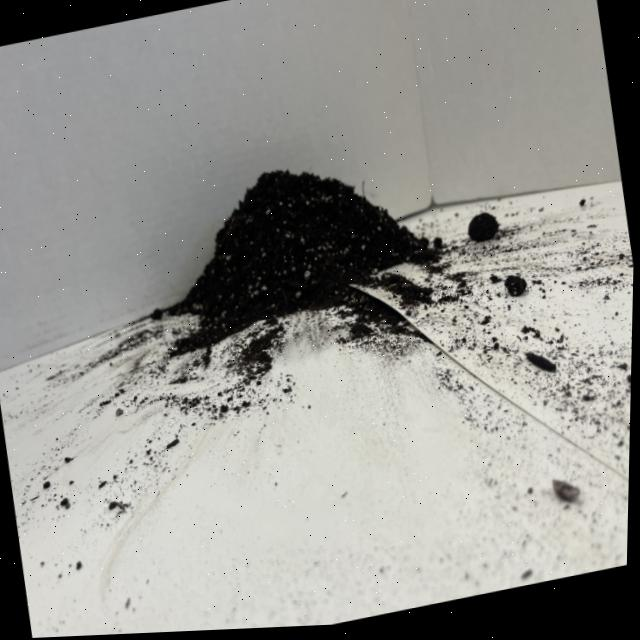soil: (131, 135, 451, 363)
